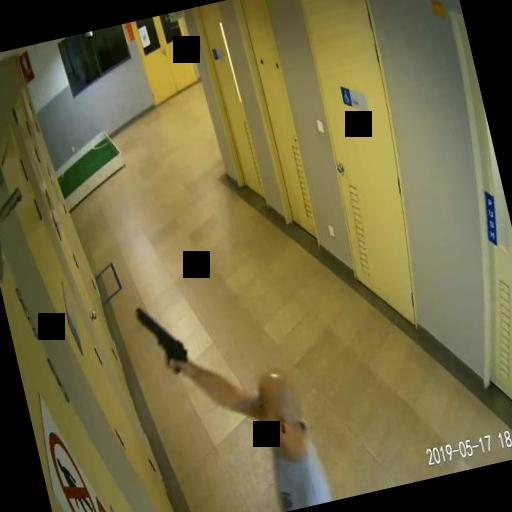Handgun: (132, 298, 190, 382)
